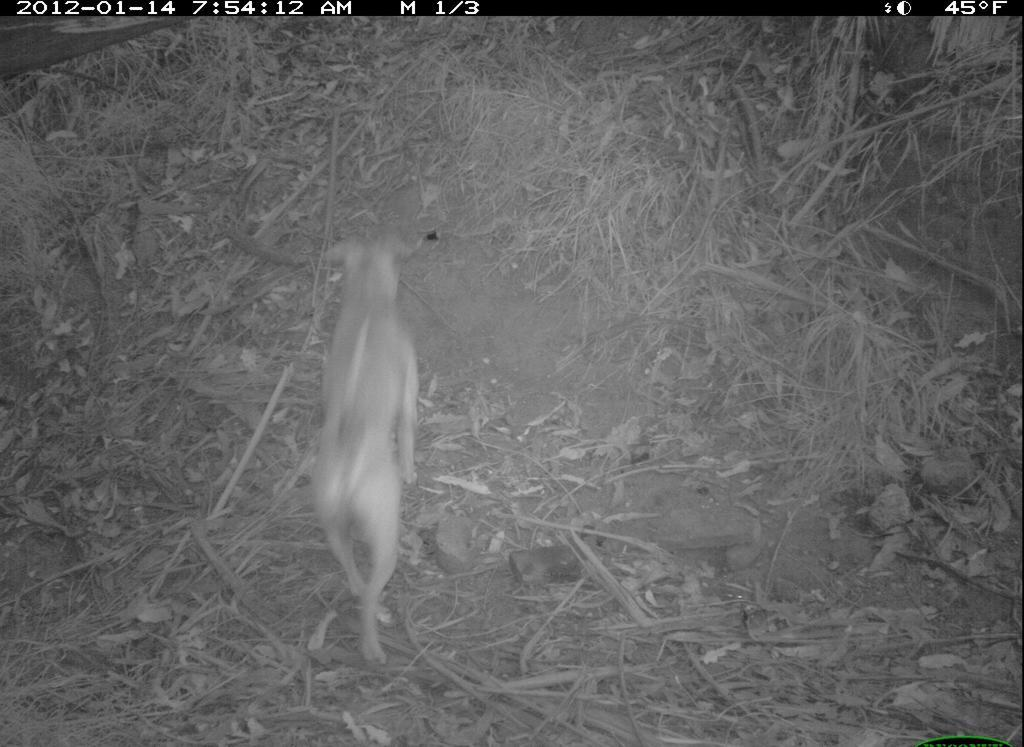dog: (306, 217, 433, 678)
